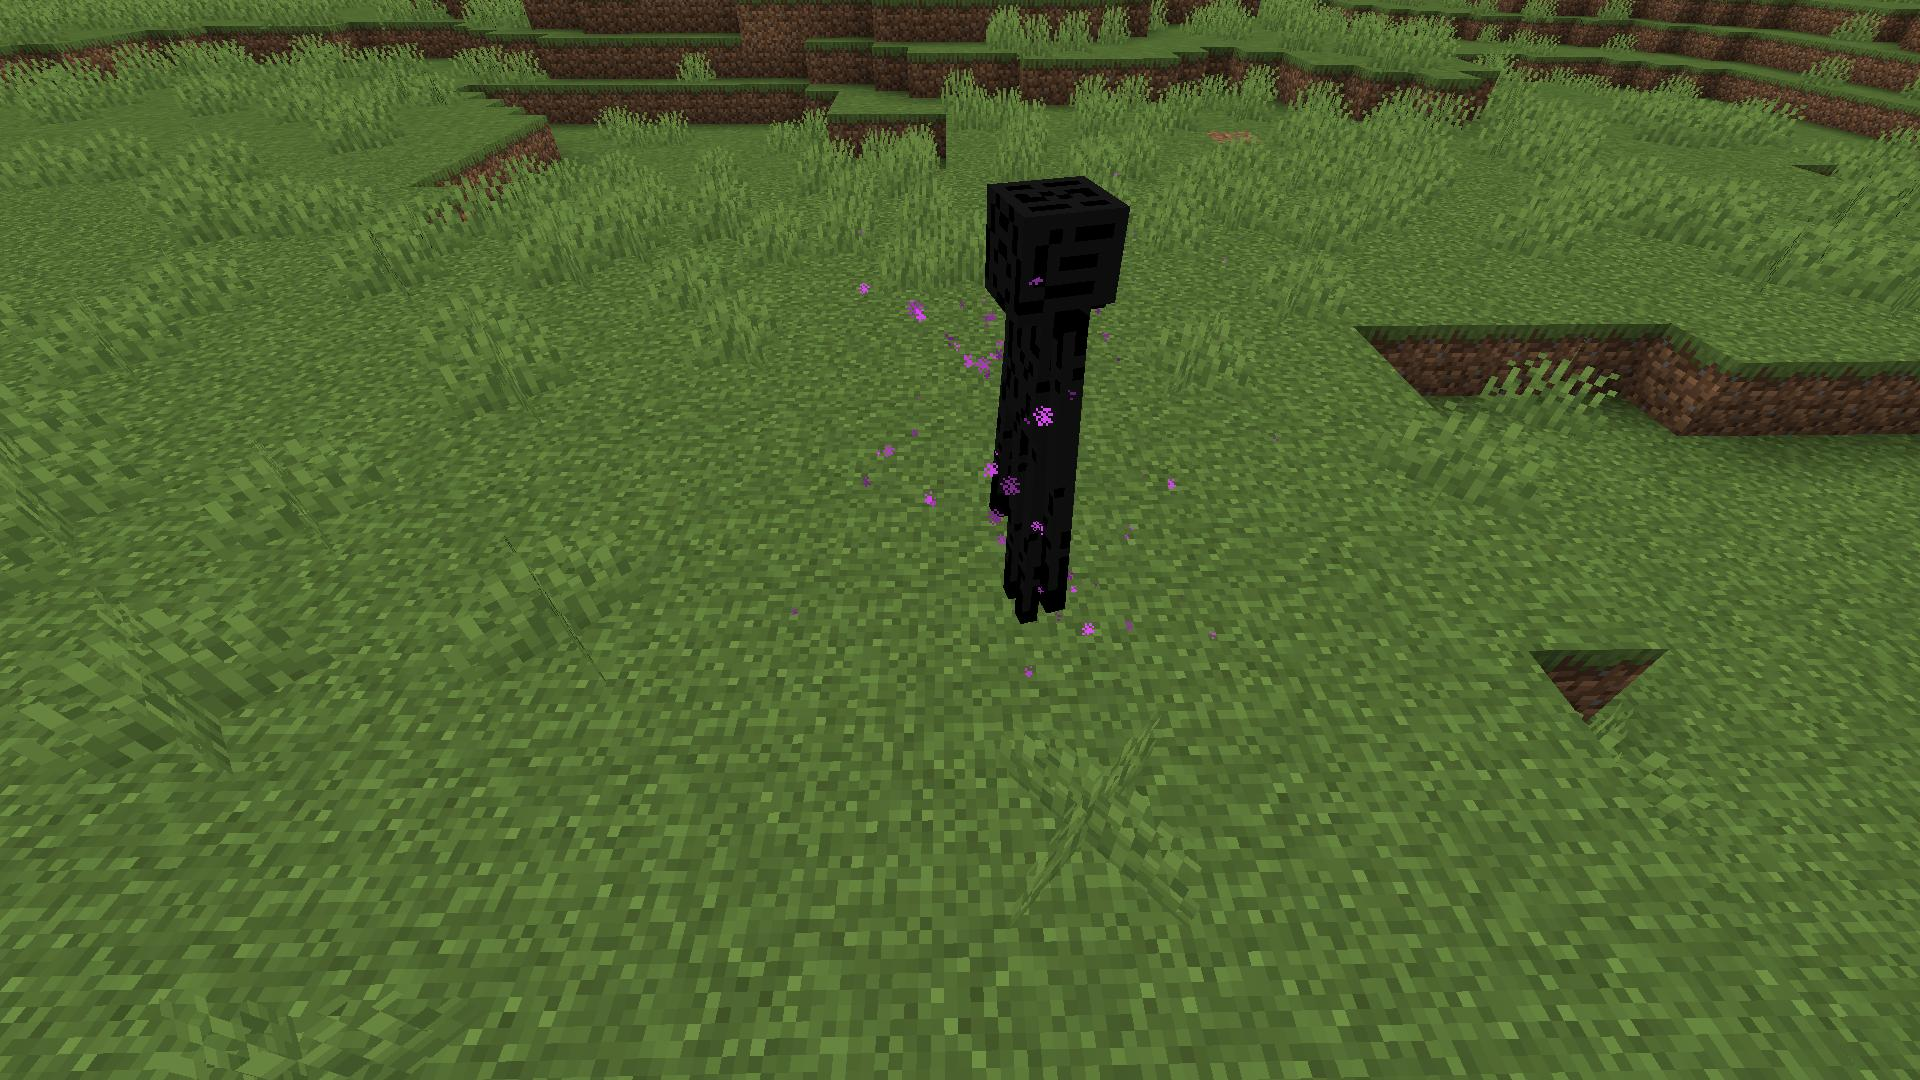enderman: (978, 170, 1137, 630)
